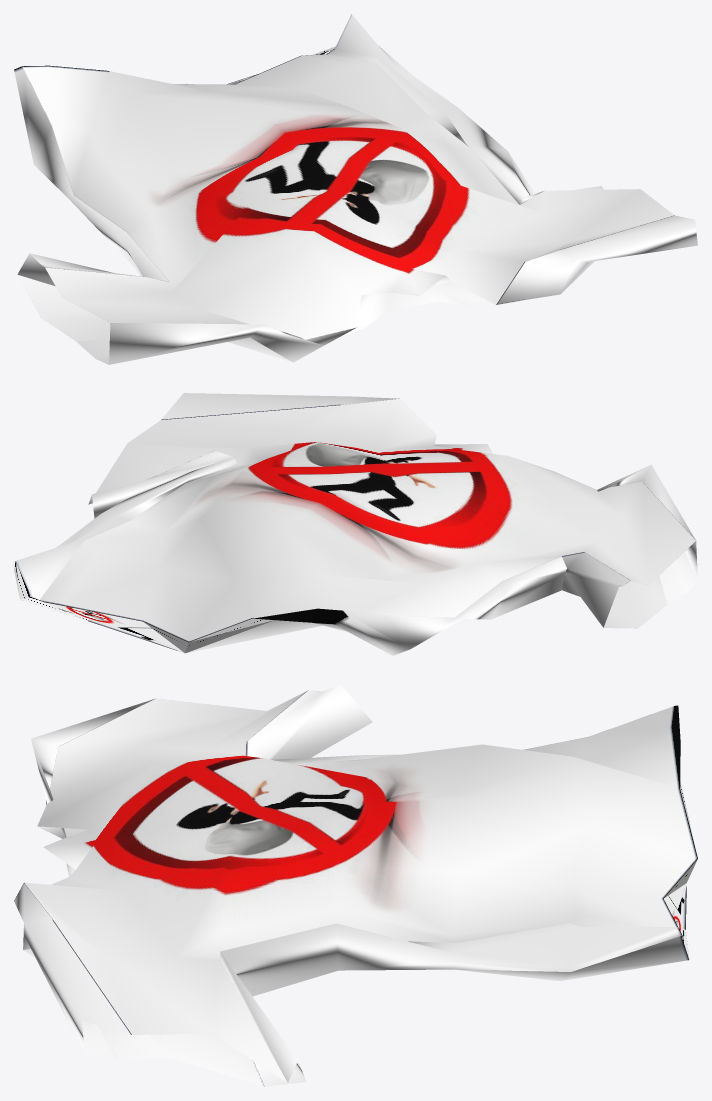
Rendered from crumple SHIRT.fbx.
3 views of the same model, one above another, from view 1: azimuth 30°, elevation 25°; view 2: azimuth 150°, elevation 25°; view 3: azimuth 270°, elevation 25° (orthographic). The views are drawn at different scales.
Parts seen in each view (by area): view 1: Box001; view 2: Box001; view 3: Box001.
Boxes of the visible parts, bbox=[...] form: Box001: bbox=[14, 14, 697, 364]; Box001: bbox=[14, 393, 697, 655]; Box001: bbox=[14, 684, 697, 1086].
Bounding box in the file's own units: 123 × 26.57 × 111.
